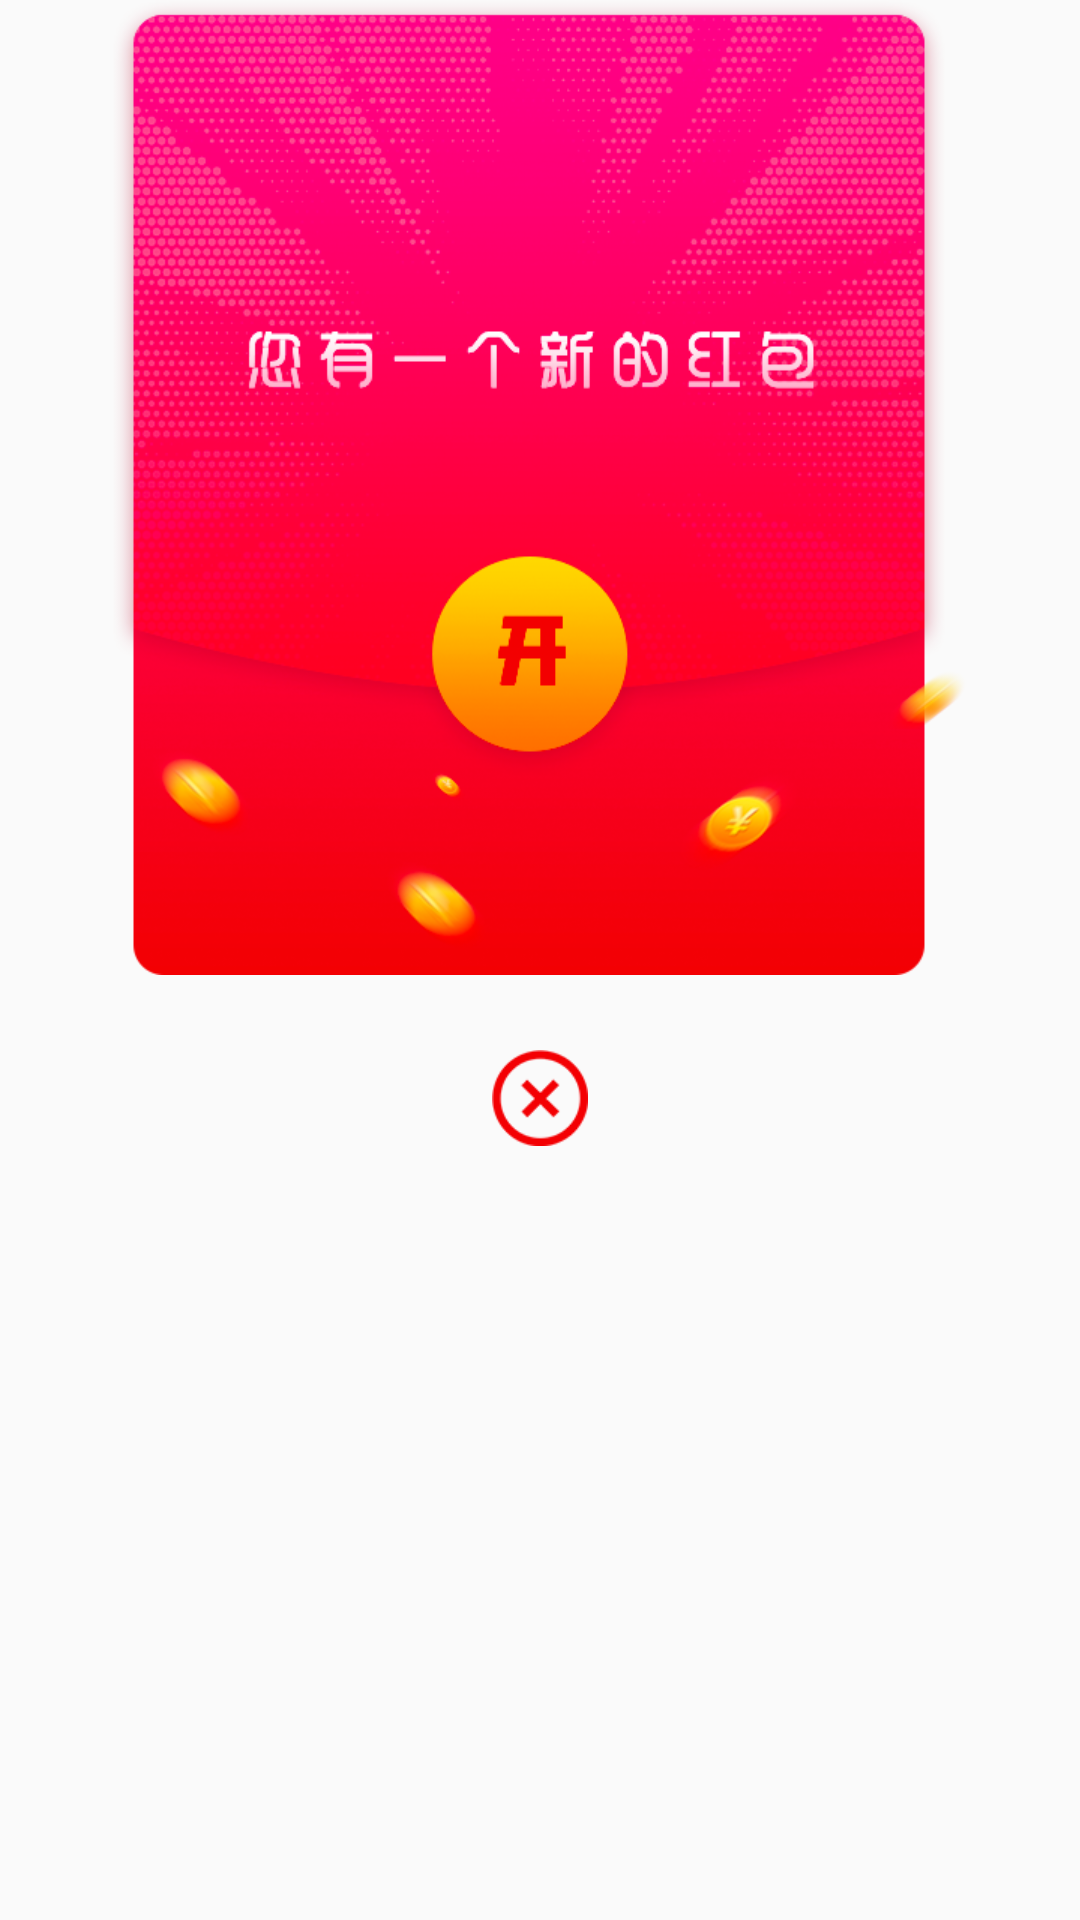

Screen size 1080 x 1920. Icon name, then its box in pixels as (x1, y1, x2, y2):
close: (492, 1050, 588, 1146)
